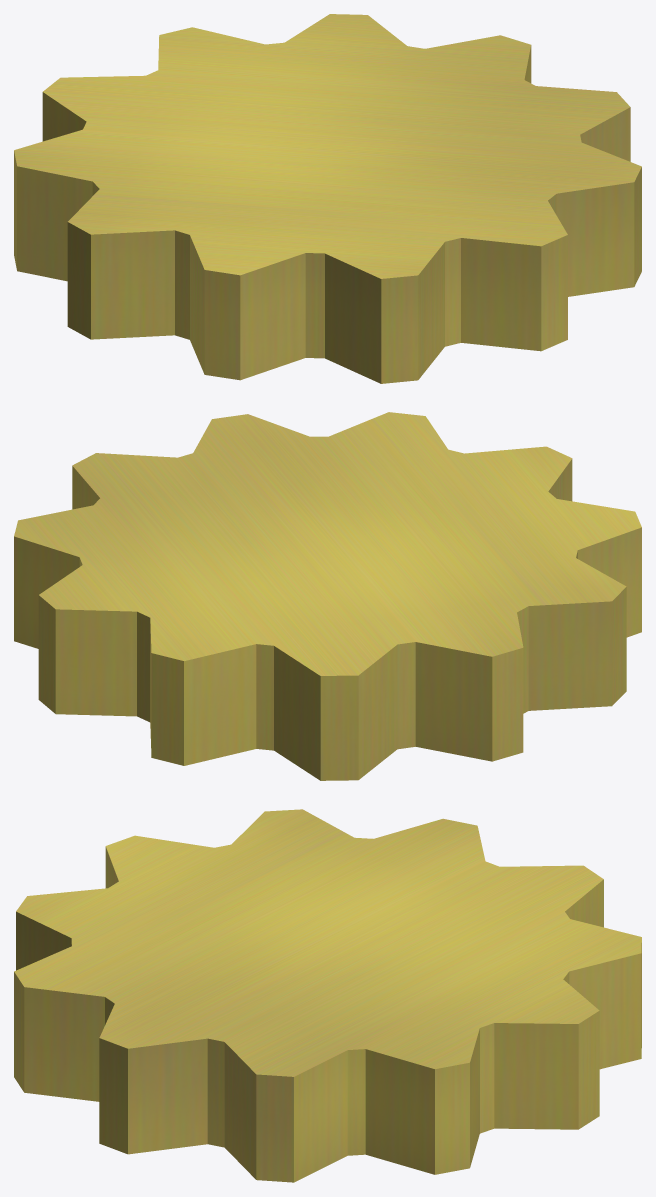
File: Cog011.fbx
3 renders of one model, top to bottom at view 1: azimuth 30°, elevation 25°; view 2: azimuth 150°, elevation 25°; view 3: azimuth 270°, elevation 25°, orthographic.
Parts seen in each view (by area): view 1: Cog011; view 2: Cog011; view 3: Cog011.
Boxes of the visible parts, box(x1,y1,x2,y2) form: Cog011: box(14, 14, 641, 383); Cog011: box(14, 412, 641, 780); Cog011: box(14, 809, 641, 1182).
Bounding box in the file's own units: 107 × 19.69 × 106.
